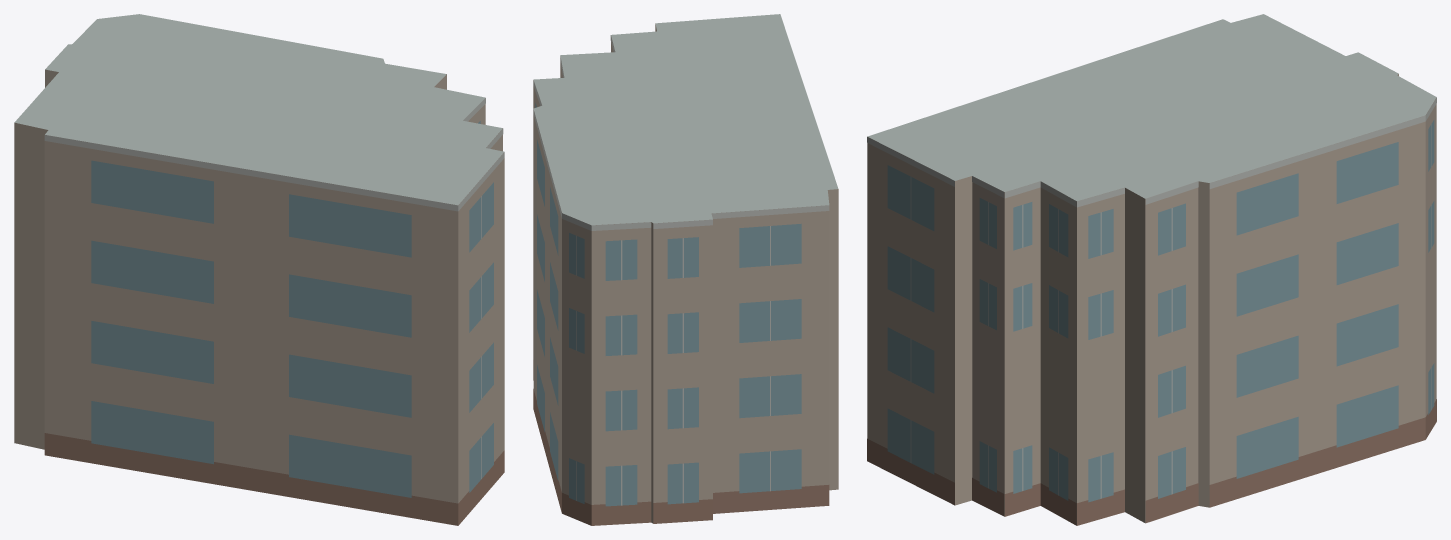
The model's file is survey-upis-32658355.glb.
The picture shows the model from 3 angles, left to right: view 1: azimuth 30°, elevation 25°; view 2: azimuth 150°, elevation 25°; view 3: azimuth 270°, elevation 25°; orthographic projection. The views are drawn at different scales.
Visible parts, largest first — view 1: survey-upis-32658355.tmp; view 2: survey-upis-32658355.tmp; view 3: survey-upis-32658355.tmp.
Part boxes in pixels (bbox=[...]): survey-upis-32658355.tmp: bbox=[14, 14, 504, 525]; survey-upis-32658355.tmp: bbox=[533, 14, 838, 525]; survey-upis-32658355.tmp: bbox=[867, 14, 1436, 525].
Size of the model in its own units: 15.85 by 12.8 by 20.37.
